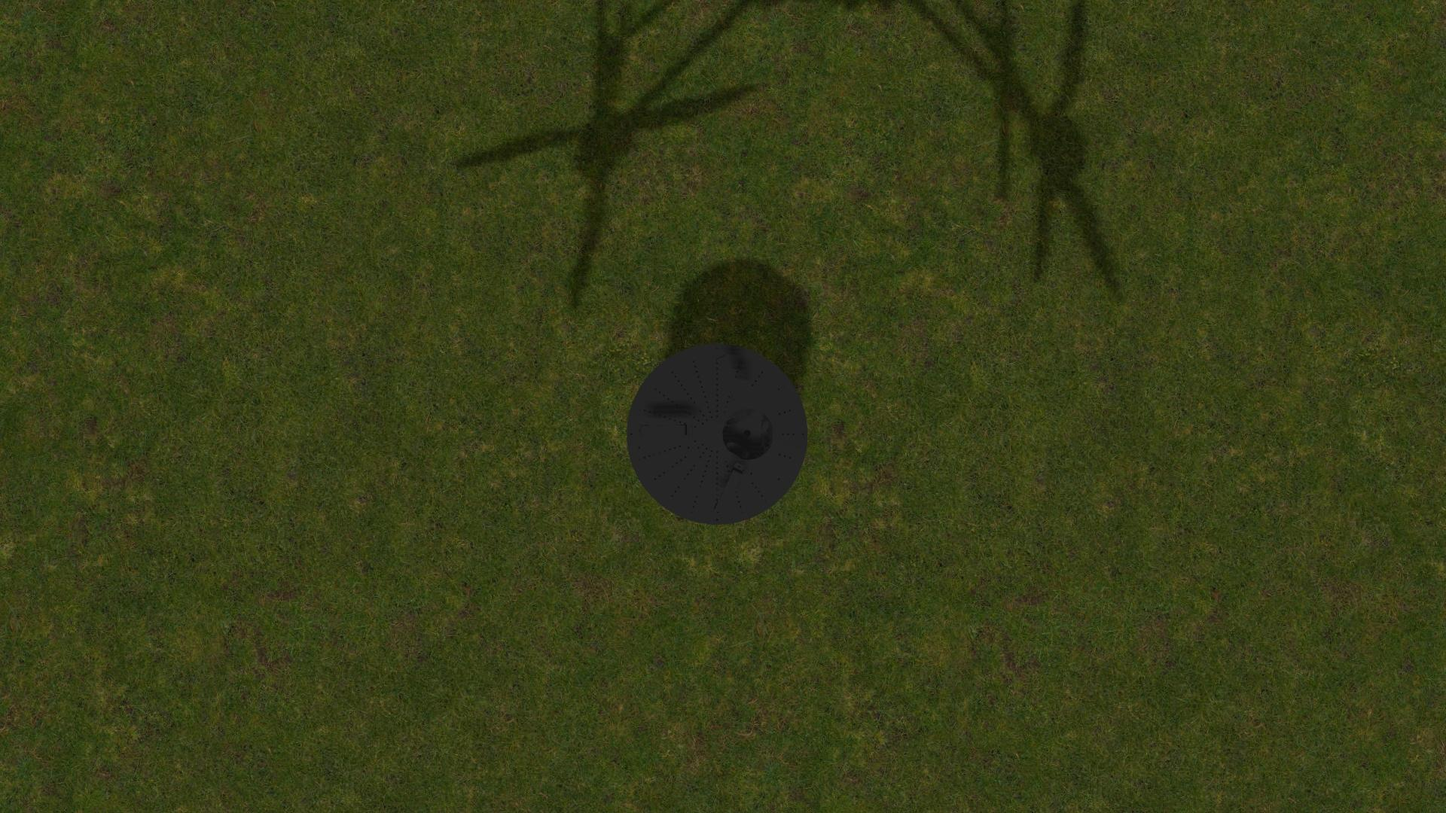alca: (712, 461, 745, 516), (714, 351, 745, 404), (637, 425, 692, 437)
armadilha: (627, 343, 808, 525)
